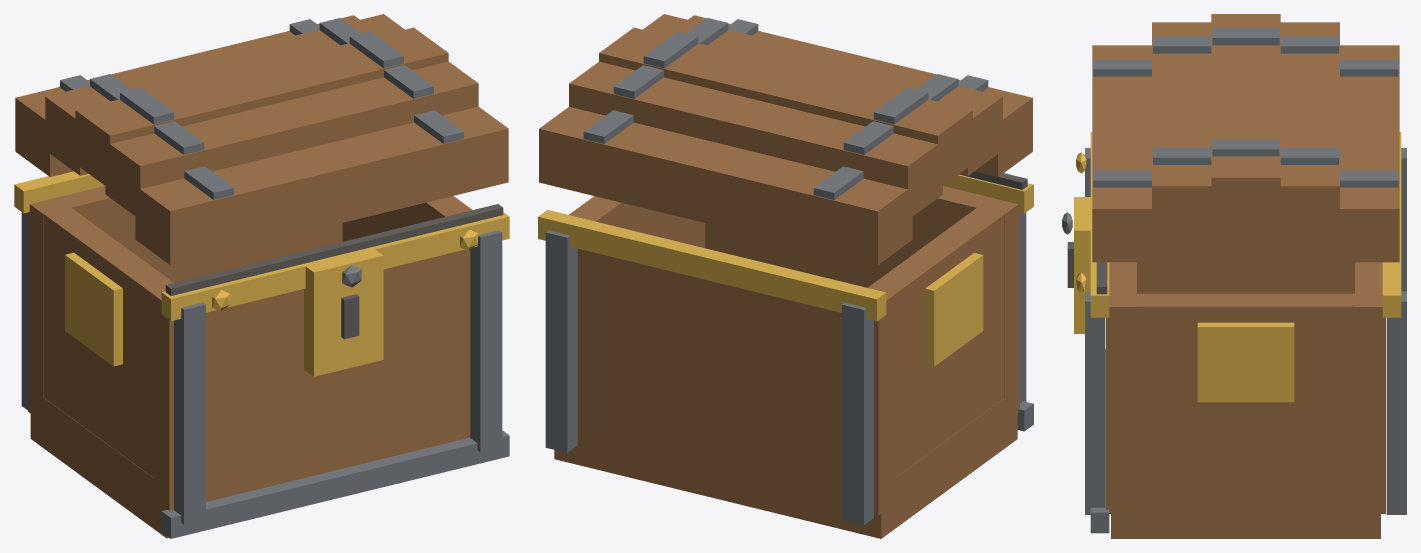
The model's file is crate.glb.
The picture shows the model from 3 angles, left to right: view 1: azimuth 30°, elevation 25°; view 2: azimuth 150°, elevation 25°; view 3: azimuth 270°, elevation 25°; orthographic projection.
Parts seen in each view (by area): view 1: chest_front, arched_lid_panel_0, chest_left, arched_lid_panel_1, arched_lid_panel_2, chest_back, front_base_rim, front_hasplock, arched_lid_panel_3, corner_guard_0.245, chest_floor, corner_guard_-0.245 (+16 smaller); view 2: chest_back, arched_lid_panel_4, chest_left, arched_lid_panel_3, arched_lid_panel_2, chest_floor, chest_front, rear_brass_rim, arched_lid_panel_1, rear_corner_guard_0.245, rear_corner_guard_-0.245, side_brass_lockplate_-1 (+12 smaller); view 3: chest_right, chest_floor, arched_lid_panel_2, arched_lid_panel_0, arched_lid_panel_4, arched_lid_panel_1, arched_lid_panel_3, chest_left, side_brass_lockplate_1, chest_front, chest_back, rear_corner_guard_0.245 (+16 smaller).
Boxes of the visible parts, x1,y1,x2,y2 form: chest_front: [153, 249, 470, 510]; arched_lid_panel_0: [135, 106, 508, 264]; chest_left: [44, 207, 173, 477]; arched_lid_panel_1: [105, 61, 478, 218]; arched_lid_panel_2: [75, 27, 448, 186]; chest_back: [28, 186, 342, 422]; front_base_rim: [161, 430, 509, 538]; front_hasplock: [304, 248, 383, 376]; arched_lid_panel_3: [45, 14, 404, 175]; corner_guard_0.245: [470, 230, 502, 452]; chest_floor: [30, 389, 168, 538]; corner_guard_-0.245: [174, 302, 205, 524]; chest_back: [577, 248, 894, 515]; arched_lid_panel_4: [539, 107, 912, 264]; chest_left: [868, 207, 1004, 477]; arched_lid_panel_3: [569, 61, 942, 219]; arched_lid_panel_2: [599, 27, 972, 188]; chest_floor: [554, 389, 1017, 538]; chest_front: [705, 186, 1019, 413]; rear_brass_rim: [538, 210, 886, 321]; arched_lid_panel_1: [643, 14, 1002, 175]; rear_corner_guard_0.245: [545, 230, 577, 452]; rear_corner_guard_-0.245: [842, 303, 873, 525]; side_brass_lockplate_-1: [925, 253, 983, 366]; chest_right: [1135, 293, 1356, 488]; chest_floor: [1111, 488, 1380, 538]; arched_lid_panel_2: [1211, 14, 1280, 230]; arched_lid_panel_0: [1092, 45, 1161, 262]; arched_lid_panel_4: [1330, 45, 1399, 262]; arched_lid_panel_1: [1152, 22, 1220, 239]; arched_lid_panel_3: [1271, 22, 1339, 239]; chest_left: [1137, 231, 1354, 293]; side_brass_lockplate_1: [1197, 322, 1294, 402]; chest_front: [1105, 262, 1136, 513]; chest_back: [1355, 262, 1385, 513]; rear_corner_guard_0.245: [1386, 291, 1406, 514].
Bounding box in the file's own units: 0.571 × 0.592 × 0.4982.
